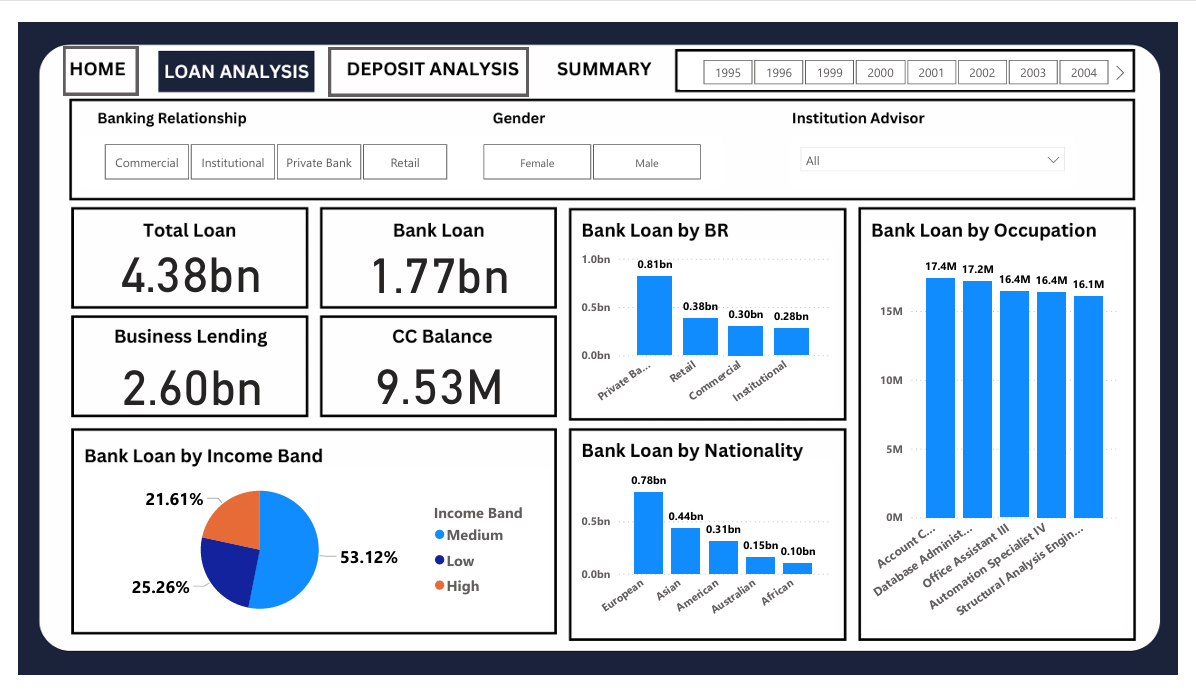

The dashboard page shown, as its layout file describes it:
{"tool":"powerbi","page":{"name":"Loan","canvas":[1280,720],"ordinal":1},"visuals":[{"type":"card","fields":{"Values":["Banking_Clients.Total Loan"]},"box":[68.6,236,242.9,70],"z":0},{"type":"card","fields":{"Values":["Sum(Banking_Clients.Bank Loans)"]},"box":[341.7,237.4,242.9,70],"z":1000},{"type":"card","fields":{"Values":["Sum(Banking_Clients.Business Lending)"]},"box":[70,360.9,242.9,70],"z":2000},{"type":"card","fields":{"Values":["Sum(Banking_Clients.Credit Card Balance)"]},"box":[341.7,359.5,242.9,70],"z":3000},{"type":"pieChart","fields":{"Y":["Sum(Banking_Clients.Bank Loans)"],"Category":["Banking_Clients.Income Band"]},"box":[68.6,492.6,516,177],"z":4000},{"type":"columnChart","fields":{"Y":["Sum(Banking_Clients.Bank Loans)"],"Category":["Banking Relationship.Banking Relationship"]},"box":[616.1,242.9,282.7,188],"z":5000},{"type":"columnChart","fields":{"Y":["Sum(Banking_Clients.Bank Loans)"],"Category":["Banking_Clients.Nationality"]},"box":[616.1,484.4,282.7,188],"z":6000},{"type":"columnChart","fields":{"Y":["Sum(Banking_Clients.Bank Loans)"],"Category":["Banking_Clients.Occupation"]},"box":[935.9,242.9,282.7,426.8],"z":7000},{"type":"slicer","fields":{"Values":["Banking_Clients.Year Of Join"]},"box":[729.9,33.8,497.1,39.8],"z":7001},{"type":"slicer","fields":{"Values":["Banking Relationship.Banking Relationship"]},"box":[68.8,126.7,428.3,53.1],"z":7002},{"type":"slicer","fields":{"Values":["Gender.Gender"]},"box":[487.4,126.7,289.5,53.1],"z":7003},{"type":"slicer","fields":{"Values":["Investment Advisor.Investment Advisor"]},"box":[853,126.7,312.5,53.1],"z":7004},{"type":"actionButton","box":[49.4,26.1,82.3,53.5],"z":7005},{"type":"actionButton","box":[341.7,27.4,220.9,53.5],"z":7006}]}

Visuals, with their boxes in screenshot pixels (x1, y1, x2, y2), scaled from the page's 1280x720 canvas onto the 1196x691 screenshot:
card - Banking_Clients.Total Loan: x1=64 y1=226 x2=291 y2=294
card - Sum(Banking_Clients.Bank Loans): x1=319 y1=228 x2=546 y2=295
card - Sum(Banking_Clients.Business Lending): x1=65 y1=346 x2=292 y2=414
card - Sum(Banking_Clients.Credit Card Balance): x1=319 y1=345 x2=546 y2=412
pieChart - Sum(Banking_Clients.Bank Loans) x Banking_Clients.Income Band: x1=64 y1=473 x2=546 y2=643
columnChart - Sum(Banking_Clients.Bank Loans) x Banking Relationship.Banking Relationship: x1=576 y1=233 x2=840 y2=414
columnChart - Sum(Banking_Clients.Bank Loans) x Banking_Clients.Nationality: x1=576 y1=465 x2=840 y2=645
columnChart - Sum(Banking_Clients.Bank Loans) x Banking_Clients.Occupation: x1=874 y1=233 x2=1139 y2=643
slicer - Banking_Clients.Year Of Join: x1=682 y1=32 x2=1146 y2=71
slicer - Banking Relationship.Banking Relationship: x1=64 y1=122 x2=464 y2=173
slicer - Gender.Gender: x1=455 y1=122 x2=726 y2=173
slicer - Investment Advisor.Investment Advisor: x1=797 y1=122 x2=1089 y2=173
actionButton: x1=46 y1=25 x2=123 y2=76
actionButton: x1=319 y1=26 x2=526 y2=78
